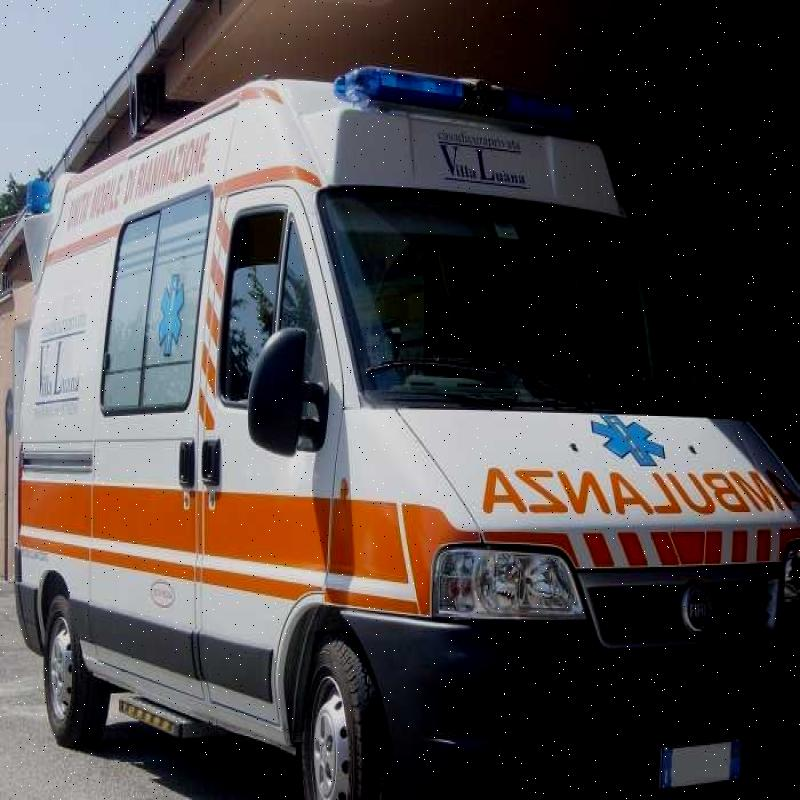AmbulanceSiren: (334, 49, 612, 168)
